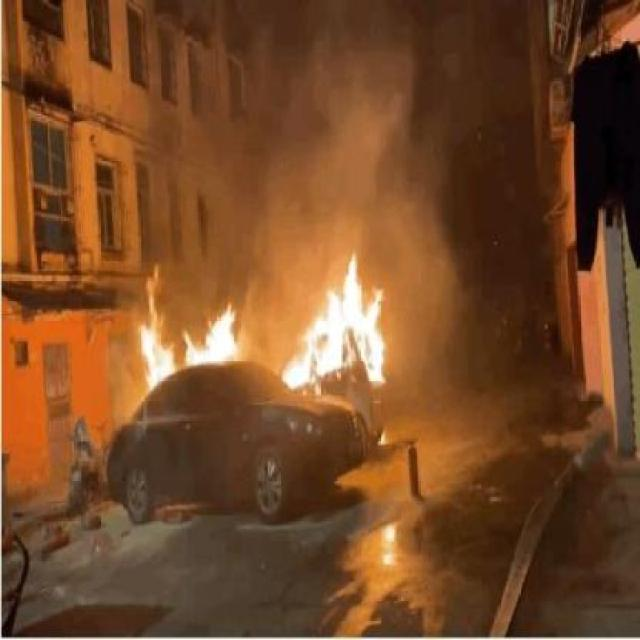Fire: (281, 250, 387, 388), (138, 264, 176, 388), (184, 310, 241, 364)
Smoke: (247, 41, 453, 337)
